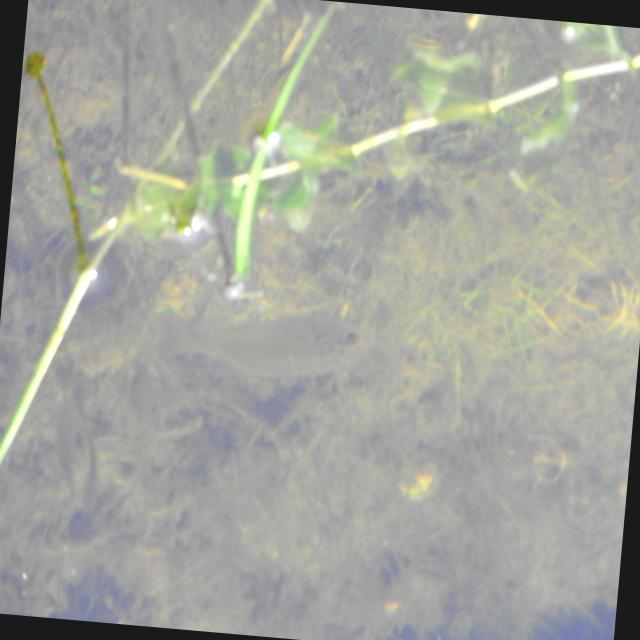Gunes Levregi: (140, 294, 376, 374)
